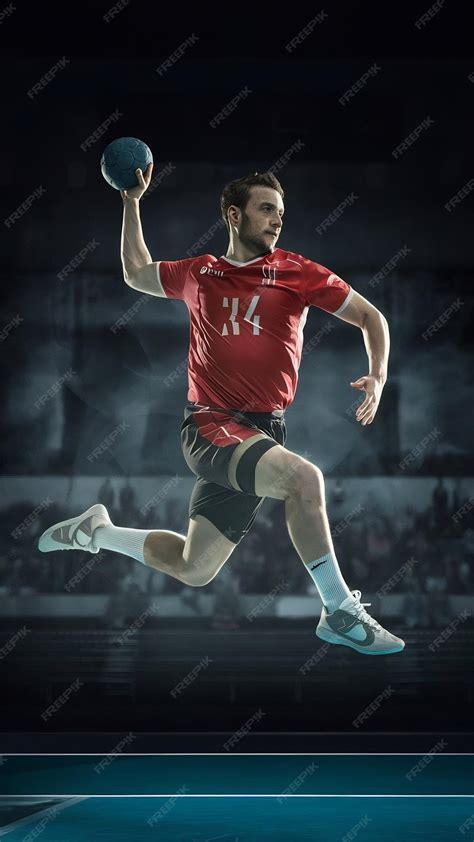ballon_handball: (97, 131, 156, 197)
